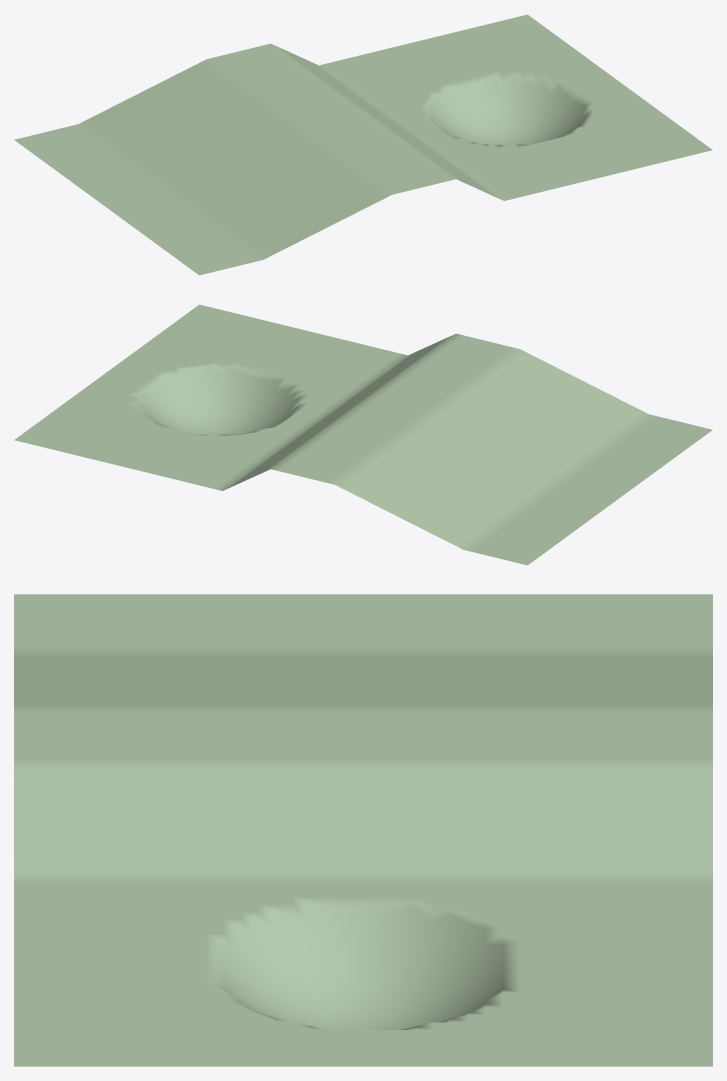
File: physics-mesh-terrain.gltf
The picture shows the model from 3 angles, top to bottom: view 1: azimuth 30°, elevation 25°; view 2: azimuth 150°, elevation 25°; view 3: azimuth 270°, elevation 25°; orthographic projection. The views are drawn at different scales.
Parts seen in each view (by area): view 1: terrain; view 2: terrain; view 3: terrain.
Part boxes in pixels (x1,y1,x2,y2): terrain: (14, 14, 712, 275); terrain: (14, 304, 712, 565); terrain: (14, 594, 712, 1066).
Bounding box in the file's own units: 16 × 2 × 10.
